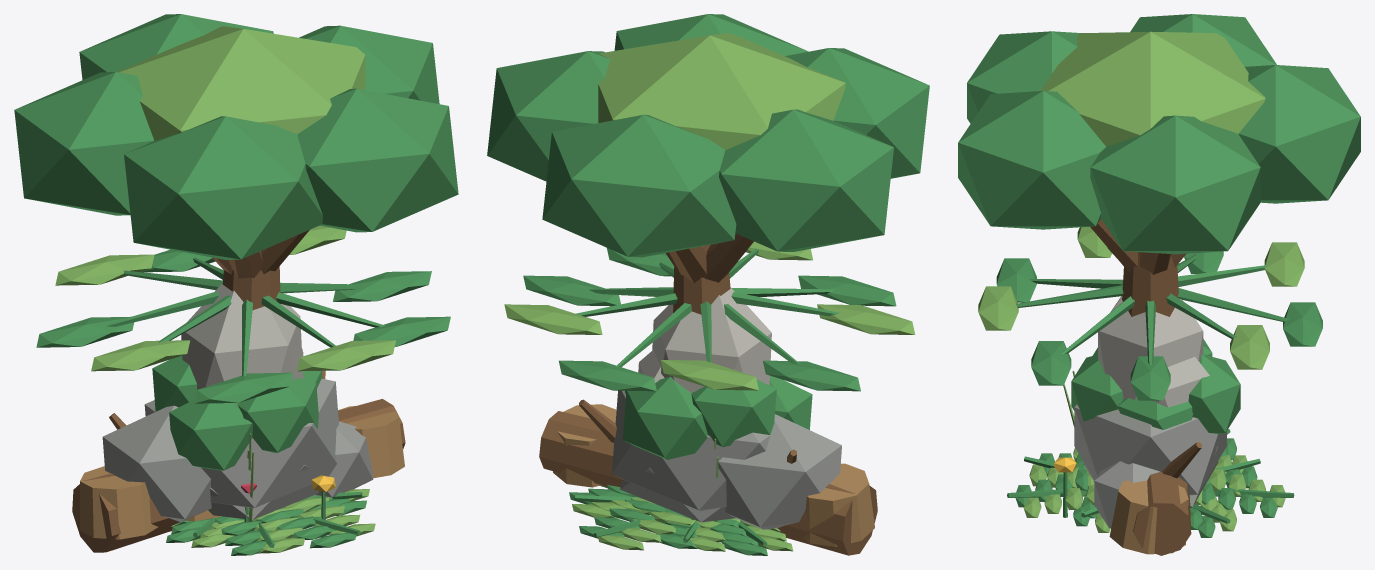
File: naturaleza_modular.glb
3 views of the same model, side by side, from view 1: azimuth 30°, elevation 25°; view 2: azimuth 150°, elevation 25°; view 3: azimuth 270°, elevation 25° (orthographic). The views are drawn at different scales.
Visible parts, largest first — view 1: natural_arbol_sombra, natural_palma_joven, natural_arbusto_redondo, natural_tronco_caido, natural_grupo_rocas, natural_helecho_ancho, natural_roca_alta, natural_roca_musgosa, natural_roca_baja, natural_mata_flor; view 2: natural_arbol_sombra, natural_palma_joven, natural_tronco_caido, natural_arbusto_redondo, natural_grupo_rocas, natural_helecho_ancho, natural_roca_musgosa, natural_roca_alta, natural_roca_baja; view 3: natural_arbol_sombra, natural_palma_joven, natural_helecho_ancho, natural_roca_musgosa, natural_arbusto_redondo, natural_tronco_caido, natural_roca_alta, natural_grupo_rocas, natural_mata_flor.
Part boxes in pixels (x1,y1,x2,y2): natural_arbol_sombra: (14,14,458,309); natural_palma_joven: (36,225,450,403); natural_arbusto_redondo: (152,356,322,470); natural_tronco_caido: (72,370,405,552); natural_grupo_rocas: (102,349,373,521); natural_helecho_ancho: (166,489,375,555); natural_roca_alta: (181,283,303,403); natural_roca_musgosa: (144,378,338,508); natural_roca_baja: (208,465,318,519); natural_mata_flor: (241,475,335,537); natural_arbol_sombra: (487,14,929,314); natural_palma_joven: (504,241,915,391); natural_tronco_caido: (539,399,877,555); natural_arbusto_redondo: (622,375,812,459); natural_grupo_rocas: (615,350,841,529); natural_helecho_ancho: (569,485,793,555); natural_roca_musgosa: (611,390,770,511); natural_roca_alta: (652,287,771,392); natural_roca_baja: (620,467,735,522); natural_arbol_sombra: (958,14,1360,316); natural_palma_joven: (978,226,1322,400); natural_helecho_ancho: (1007,429,1294,537); natural_roca_musgosa: (1074,404,1226,495); natural_arbusto_redondo: (1071,339,1240,434); natural_tronco_caido: (1109,442,1201,555); natural_roca_alta: (1098,296,1203,400); natural_grupo_rocas: (1094,357,1209,528); natural_mata_flor: (1054,457,1076,517).
Bounding box in the file's own units: 3.03 × 3.52 × 2.74.
